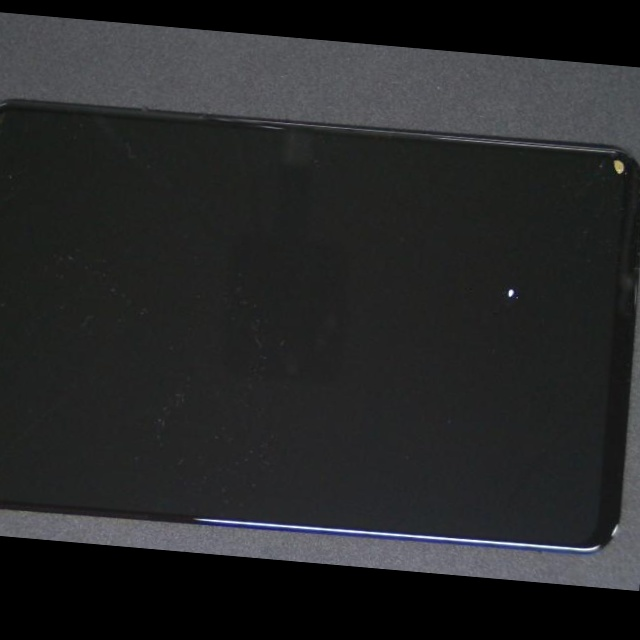stain: (171, 118, 640, 425)
